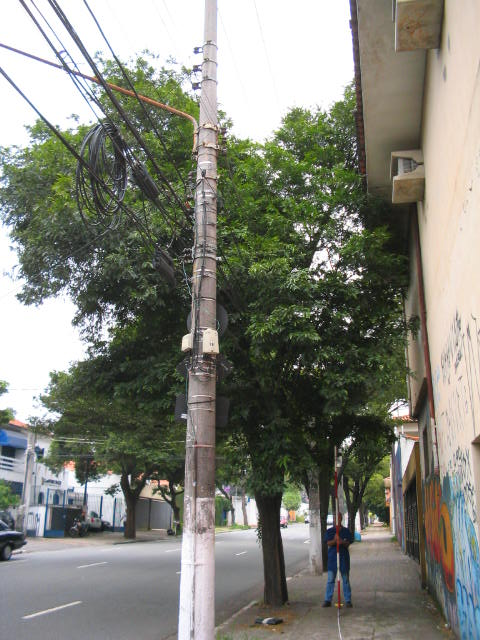crown: (7, 51, 412, 488), (26, 359, 183, 486)
stem: (248, 496, 293, 606), (120, 497, 141, 538)
stick: (330, 443, 344, 607)
tree: (3, 50, 415, 606), (22, 356, 183, 540)
